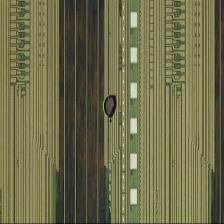PARTICLE: (101, 92, 122, 124)
